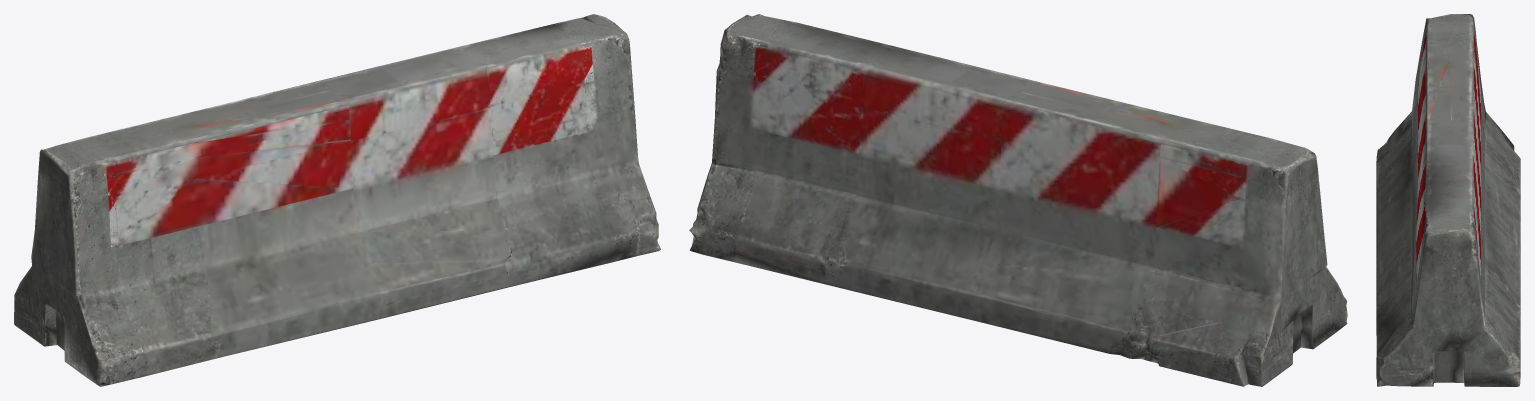
The model's file is jersey_barrier_road.glb.
3 renders of one model, left to right at view 1: azimuth 30°, elevation 25°; view 2: azimuth 150°, elevation 25°; view 3: azimuth 270°, elevation 25°, orthographic. The views are drawn at different scales.
Visible parts, largest first — view 1: Meshy_AI_jersey_barrier_road_3d_20261028_texture; view 2: Meshy_AI_jersey_barrier_road_3d_20261028_texture; view 3: Meshy_AI_jersey_barrier_road_3d_20261028_texture.
Boxes of the visible parts, <box> form: Meshy_AI_jersey_barrier_road_3d_20261028_texture: <box>14,14,660,386</box>; Meshy_AI_jersey_barrier_road_3d_20261028_texture: <box>689,14,1347,386</box>; Meshy_AI_jersey_barrier_road_3d_20261028_texture: <box>1376,14,1520,386</box>.
Size of the model in its own units: 2 by 0.6649 by 0.5555.
1 material, 1 textured.
